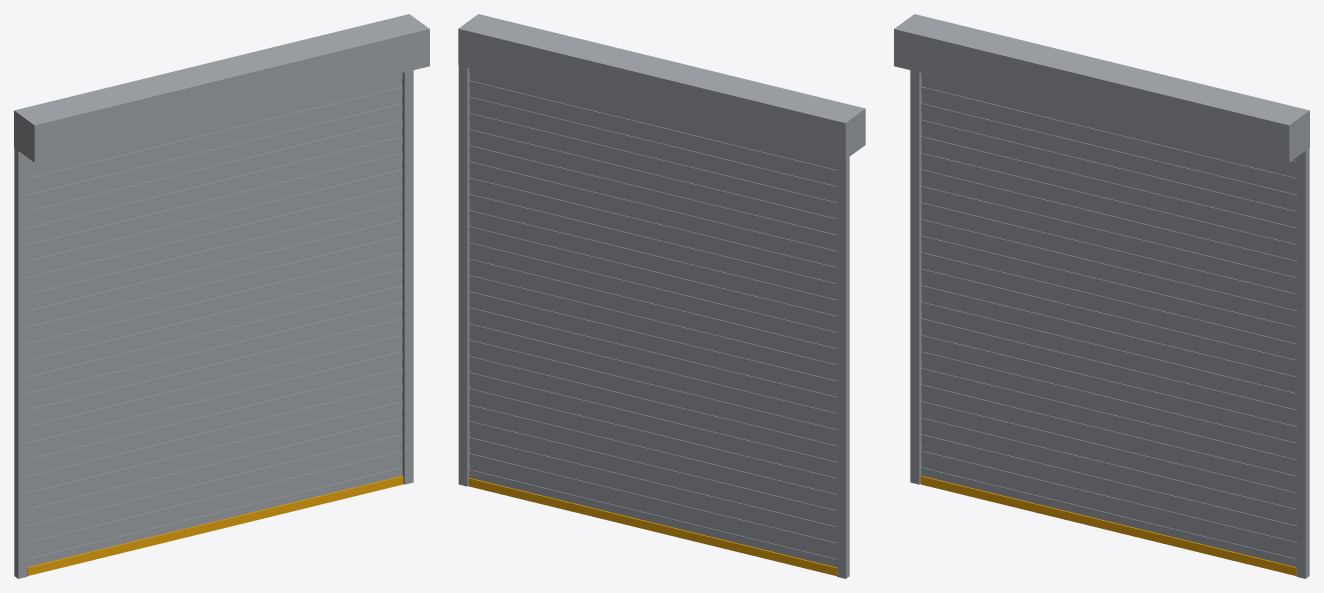
File: opening.door.shutter_4000x4500.glb
The picture shows the model from 3 angles, left to right: view 1: azimuth 30°, elevation 25°; view 2: azimuth 150°, elevation 25°; view 3: azimuth 330°, elevation 25°; orthographic projection. The views are drawn at different scales.
Visible parts, largest first — view 1: leaf__steel_galvanised, frame__steel_galvanised, leaf__plant_yellow; view 2: leaf__steel_galvanised, frame__steel_galvanised, leaf__plant_yellow; view 3: leaf__steel_galvanised, frame__steel_galvanised, leaf__plant_yellow.
Part boxes in pixels (left/top/right/bottom): leaf__steel_galvanised: left=27, top=73, right=402, bottom=567; frame__steel_galvanised: left=14, top=14, right=429, bottom=578; leaf__plant_yellow: left=27, top=476, right=403, bottom=575; leaf__steel_galvanised: left=469, top=68, right=836, bottom=567; frame__steel_galvanised: left=458, top=14, right=865, bottom=578; leaf__plant_yellow: left=468, top=478, right=836, bottom=575; leaf__steel_galvanised: left=921, top=73, right=1296, bottom=567; frame__steel_galvanised: left=894, top=14, right=1309, bottom=578; leaf__plant_yellow: left=920, top=476, right=1296, bottom=575.
Bounding box in the file's own units: 4 × 4.5 × 0.36.
